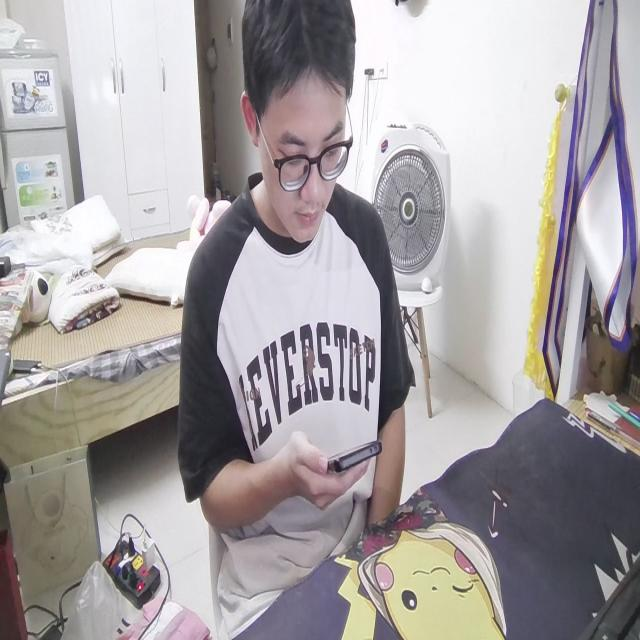phone: (326, 436, 384, 472)
student: (180, 0, 410, 604)
